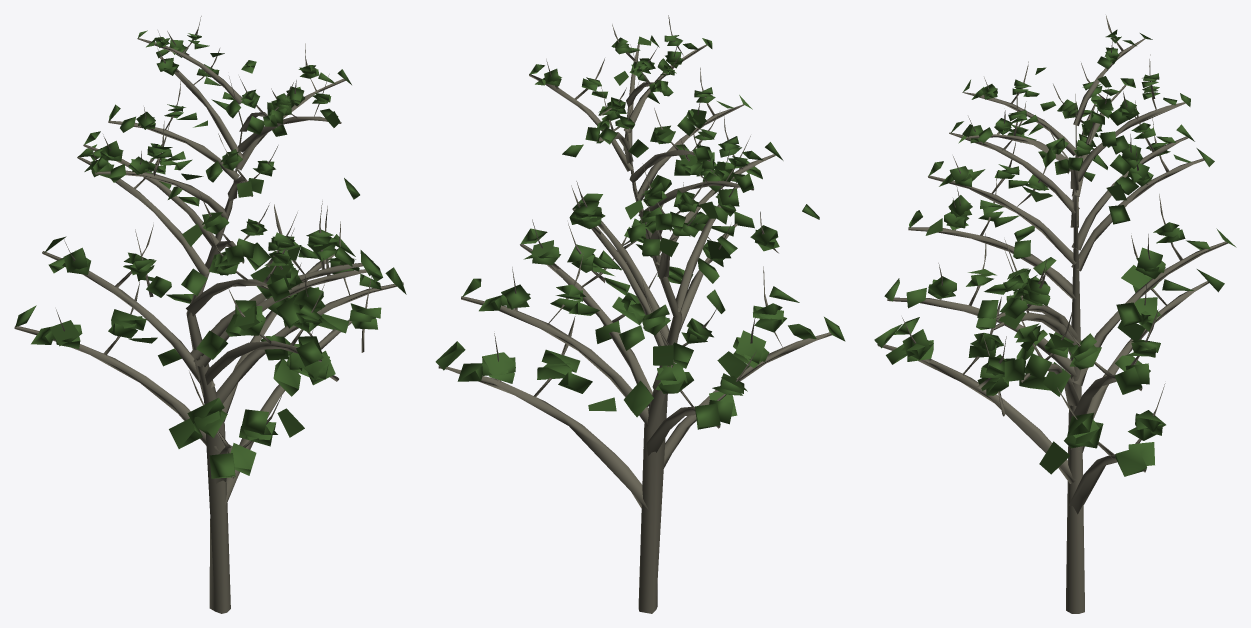
Rendered from Tree_PinOak_003.fbx.
3 renders of one model, left to right at view 1: azimuth 30°, elevation 25°; view 2: azimuth 150°, elevation 25°; view 3: azimuth 270°, elevation 25°, orthographic.
Visible parts, largest first — view 1: Tree_PinOak.003; view 2: Tree_PinOak.003; view 3: Tree_PinOak.003.
Boxes of the visible parts, bbox=[...] form: Tree_PinOak.003: bbox=[14, 16, 406, 613]; Tree_PinOak.003: bbox=[435, 15, 845, 613]; Tree_PinOak.003: bbox=[874, 15, 1236, 613].
Size of the model in its own units: 1504 by 2619 by 1503.
